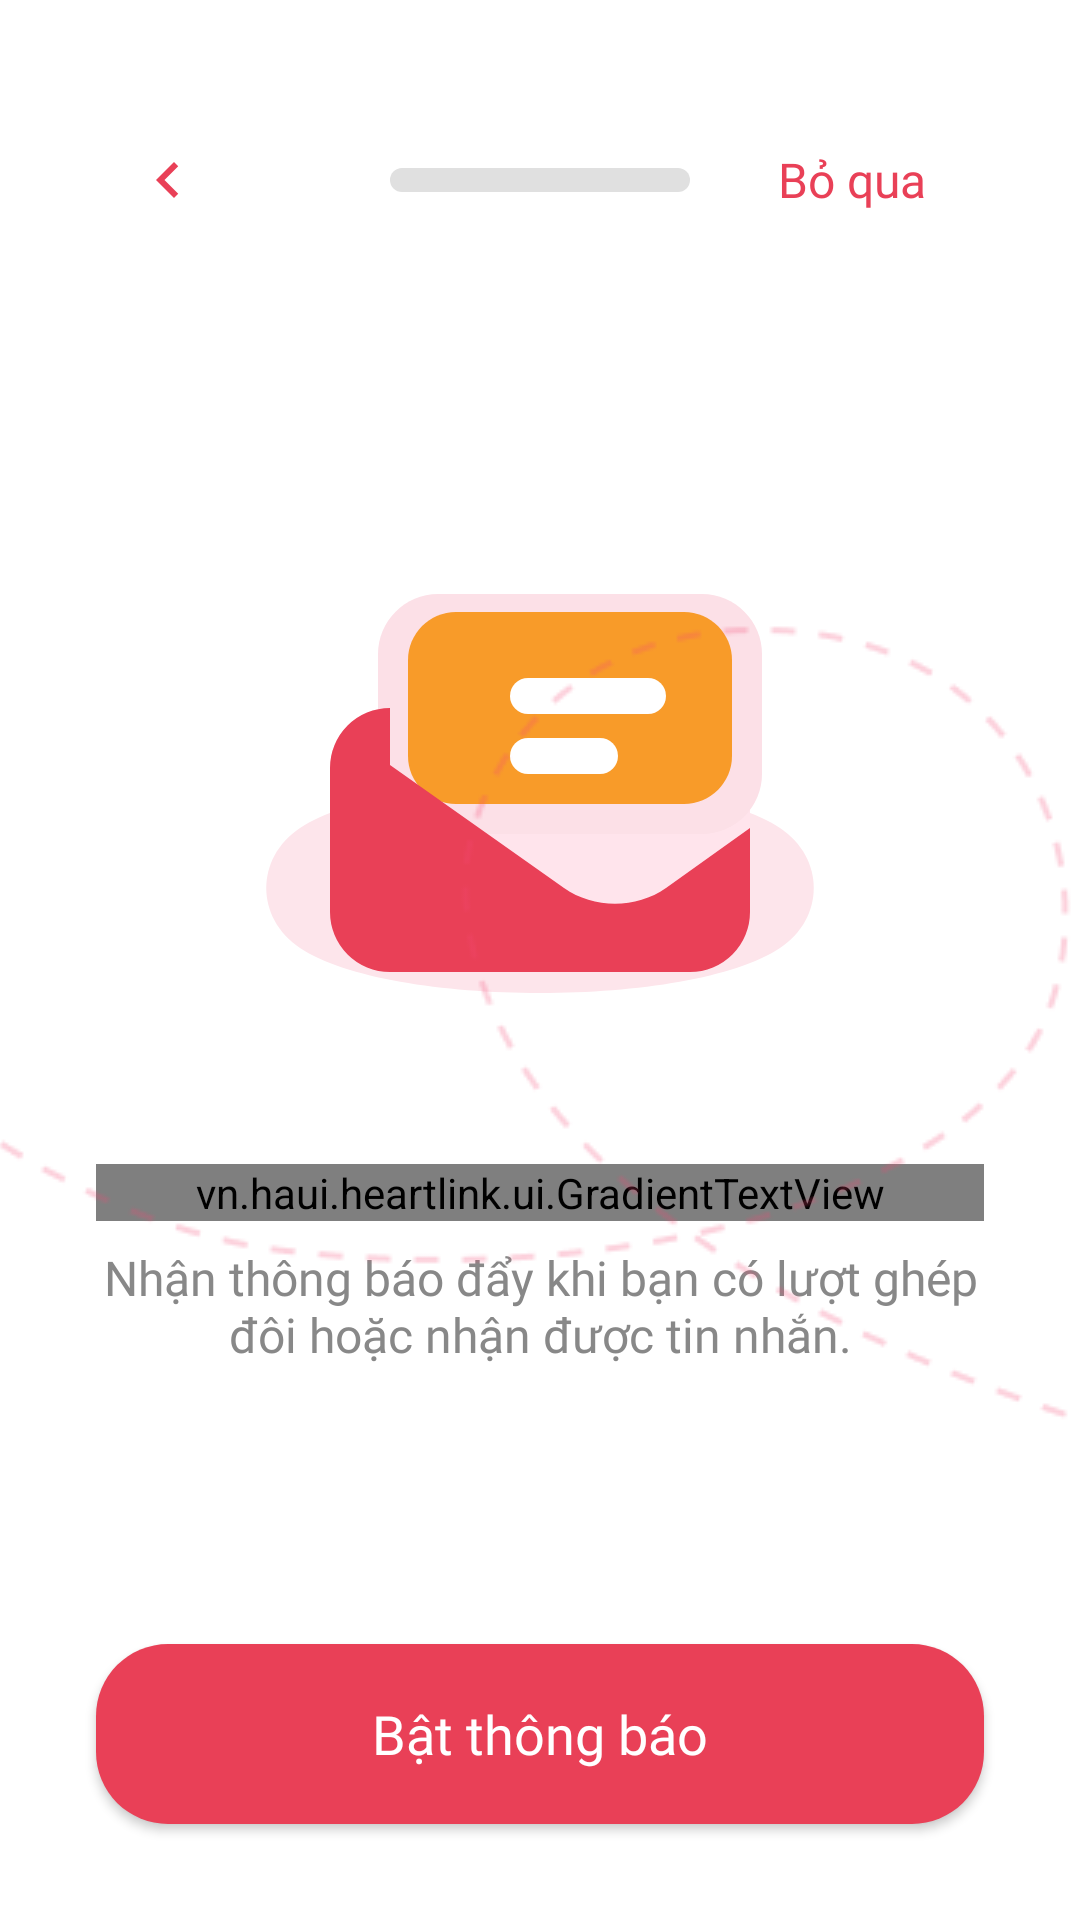

Screen size 1080 x 1920. Icon name, then its box in pixels as [x1=x1, y1=y1, x2=x2, y2=y2]:
back arrow: [x1=156, y1=162, x2=178, y2=198]
